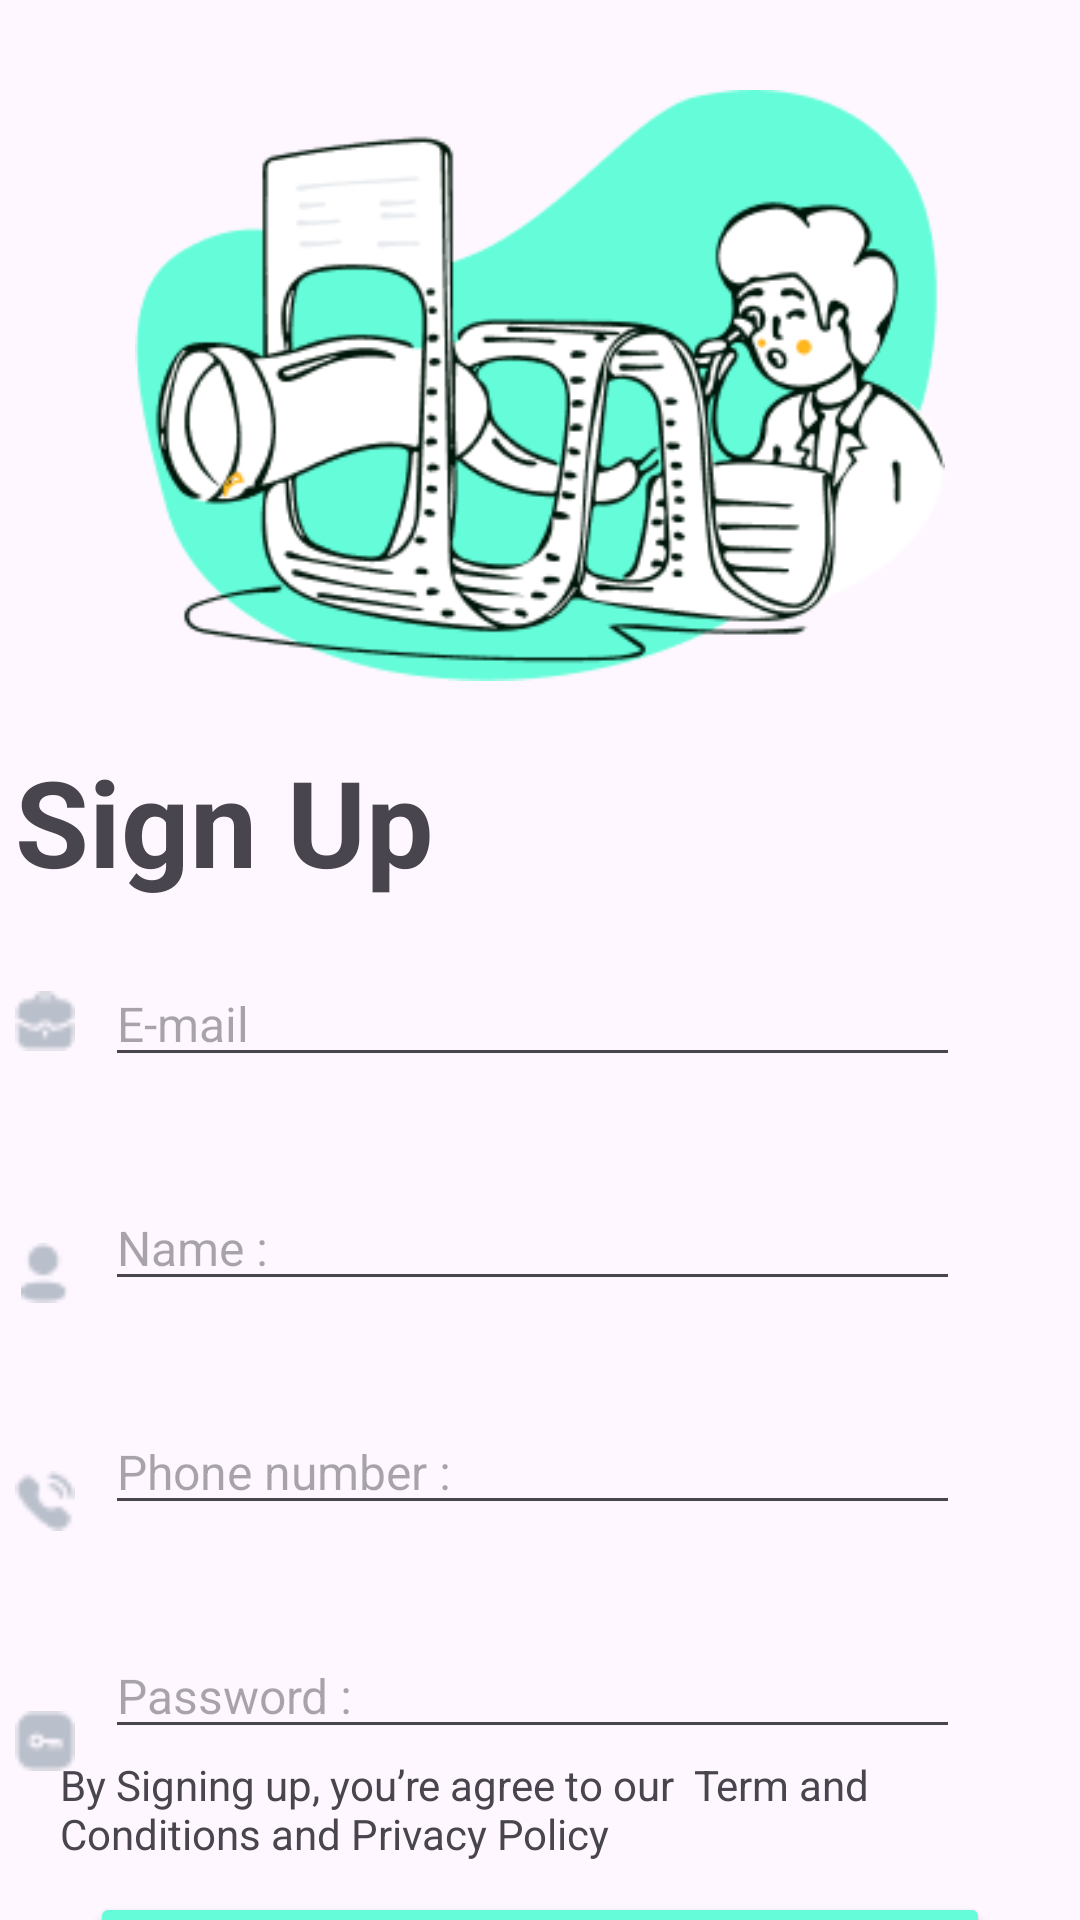

Icon click points for this 1080 x 1920 phone screenshot, format [x,y]:
calling: [45,1502]
profile: [43,1273]
work: [45,1021]
